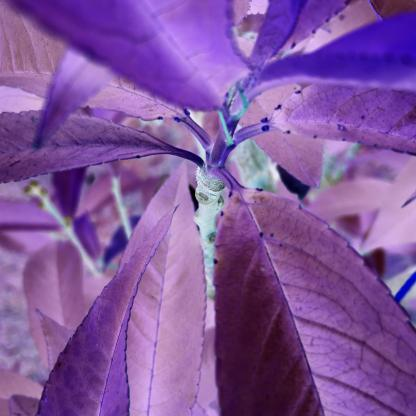Peach leaf: (212, 171, 416, 413), (30, 208, 182, 416), (109, 155, 209, 416), (0, 108, 193, 186)
